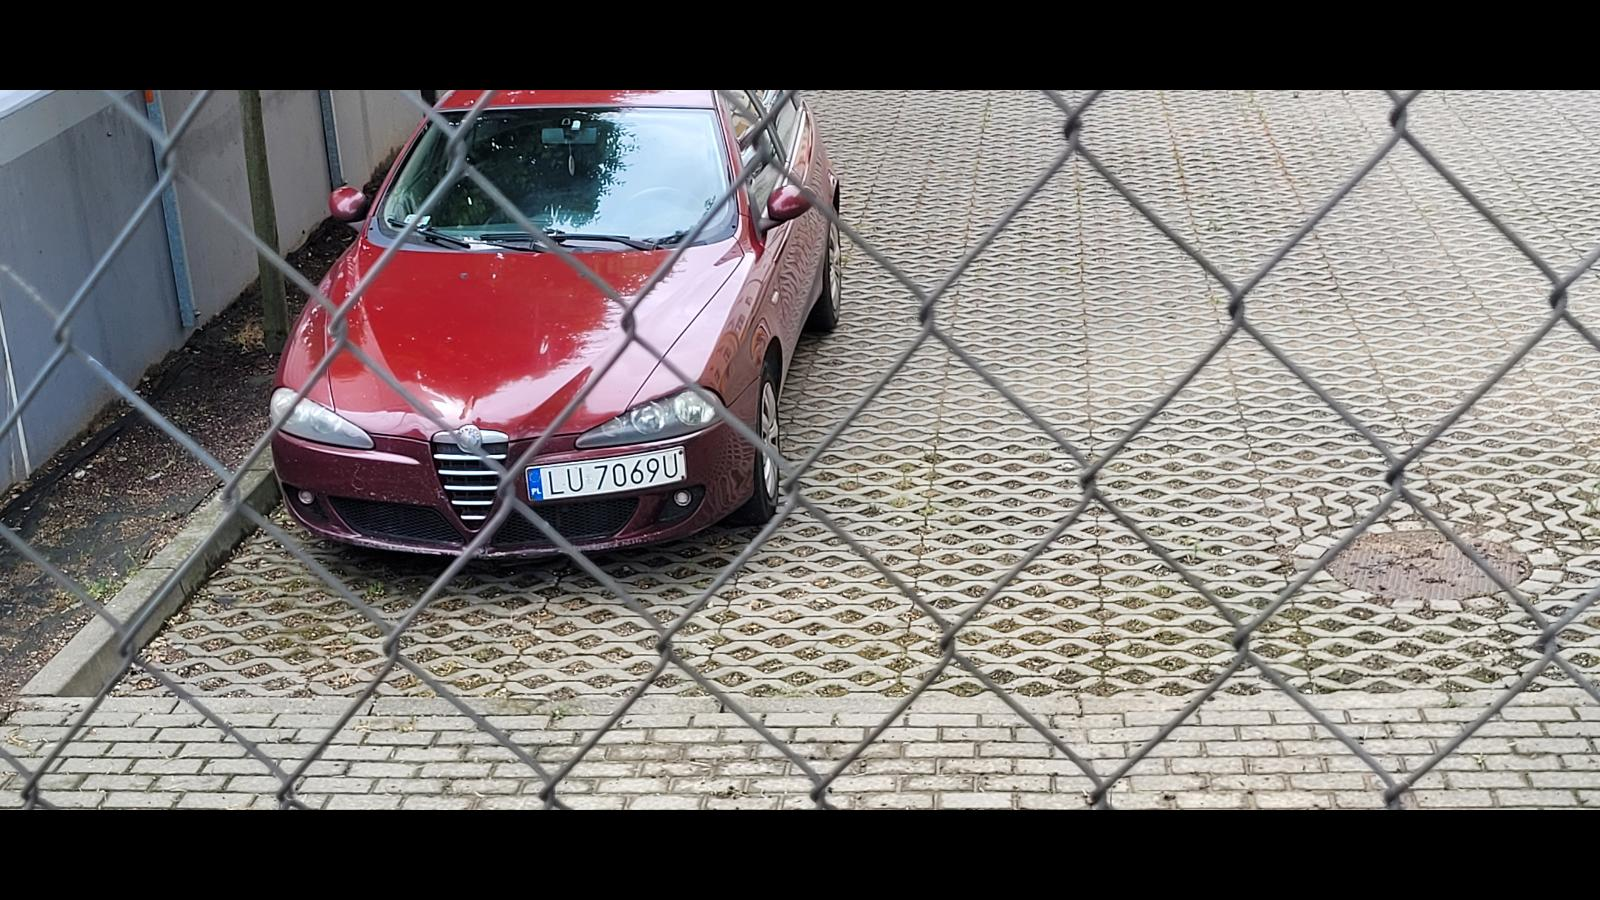plates: (524, 444, 686, 504)
